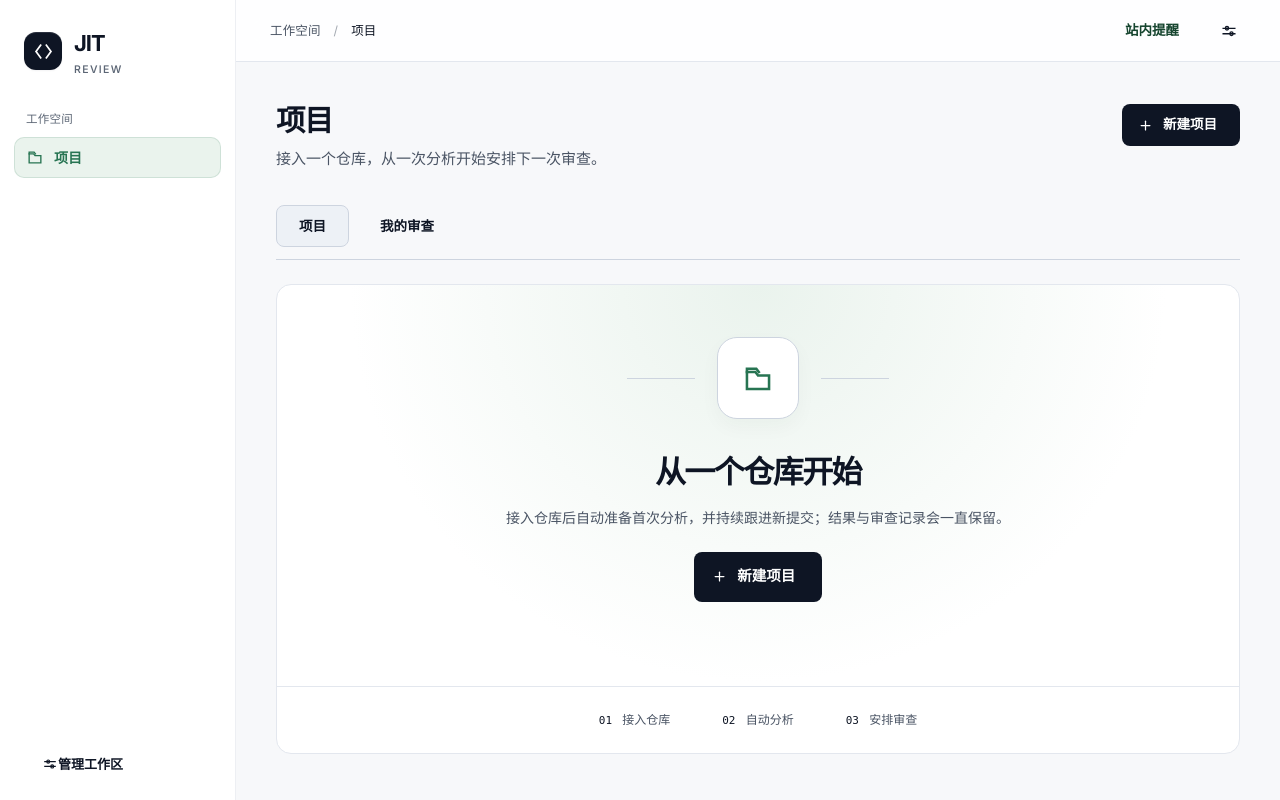
starts a repository analysis without a connection detour
This screenshot has width=1280, height=800.
Click the 1st button "新建项目" at (1181, 125), box [1122,104,1240,146]
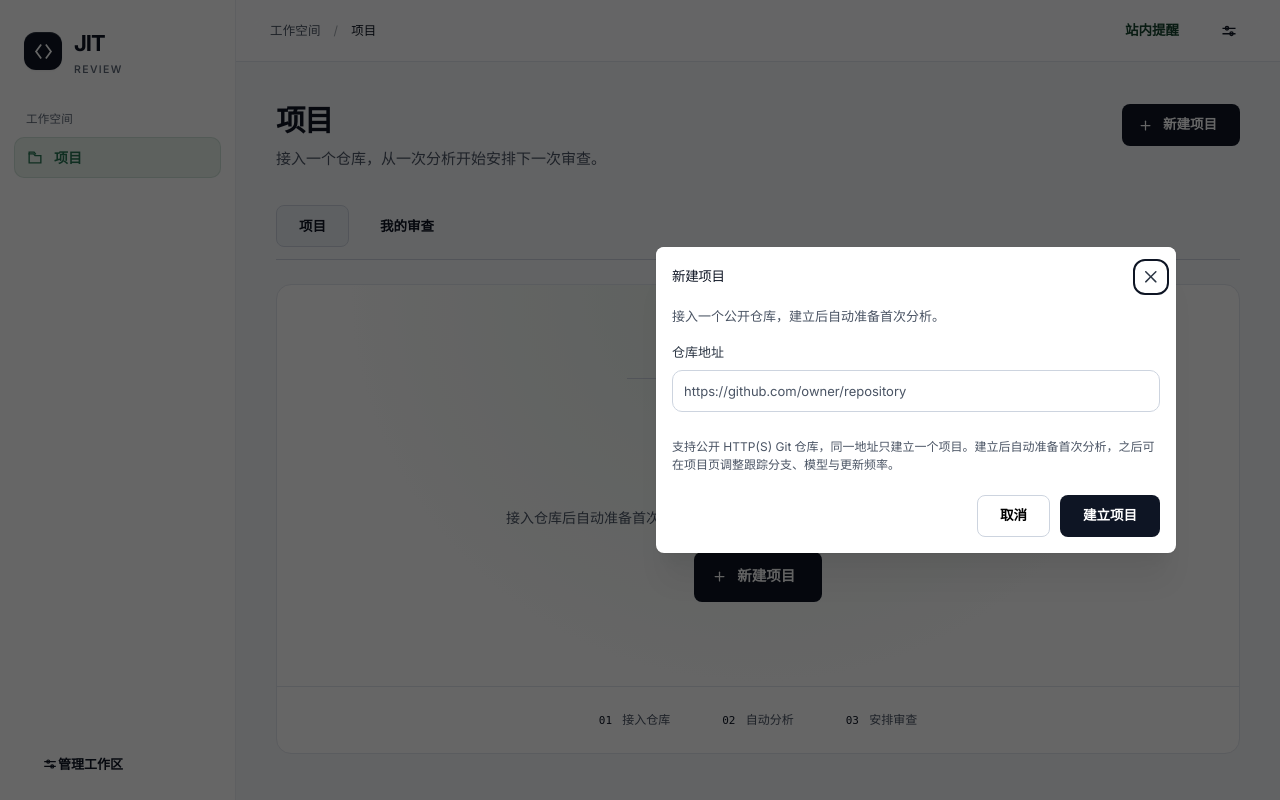
Now the field labelled "仓库地址" is shown, box [672,370,1160,412]
